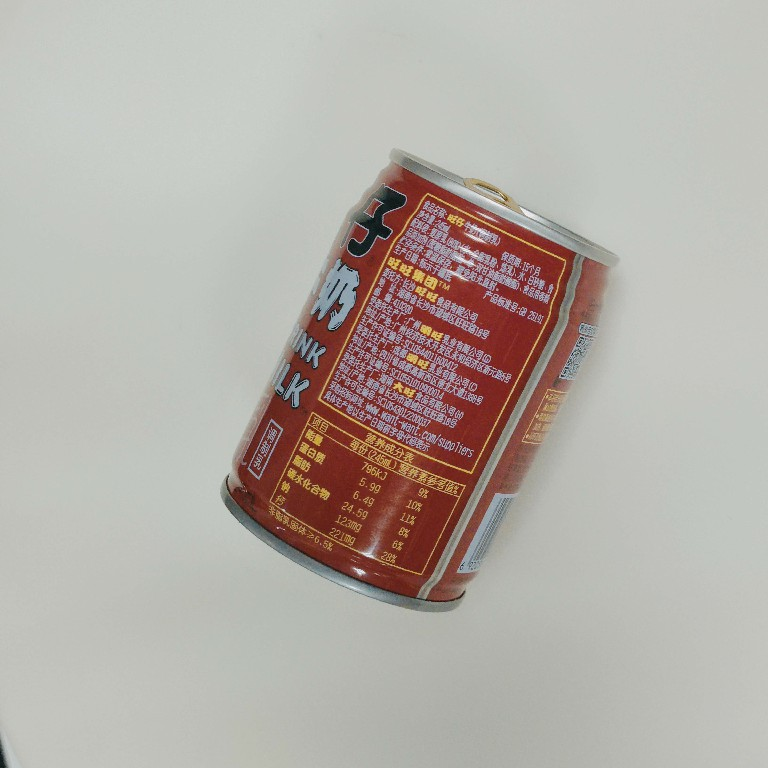can: (211, 146, 622, 618)
